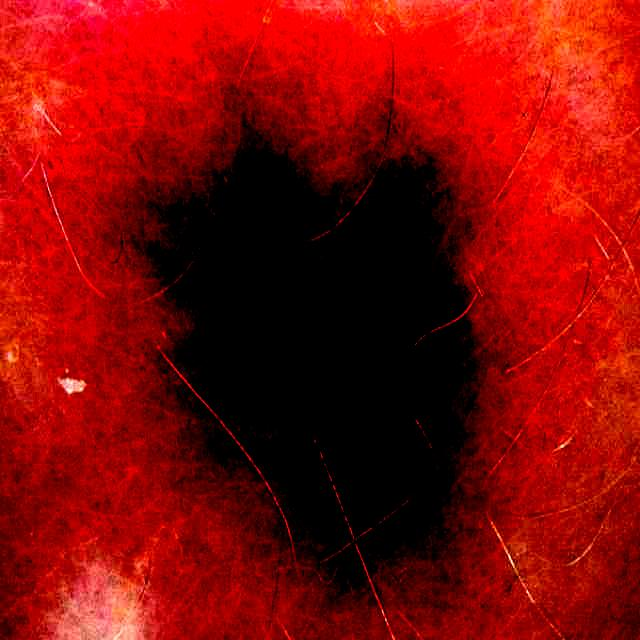NV: (161, 80, 469, 535)
